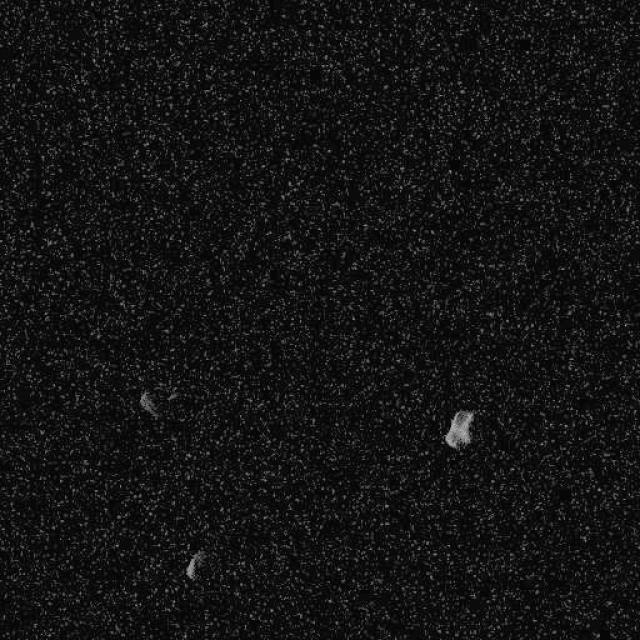D2: (442, 408, 473, 448), (184, 549, 205, 581), (138, 389, 160, 419)
